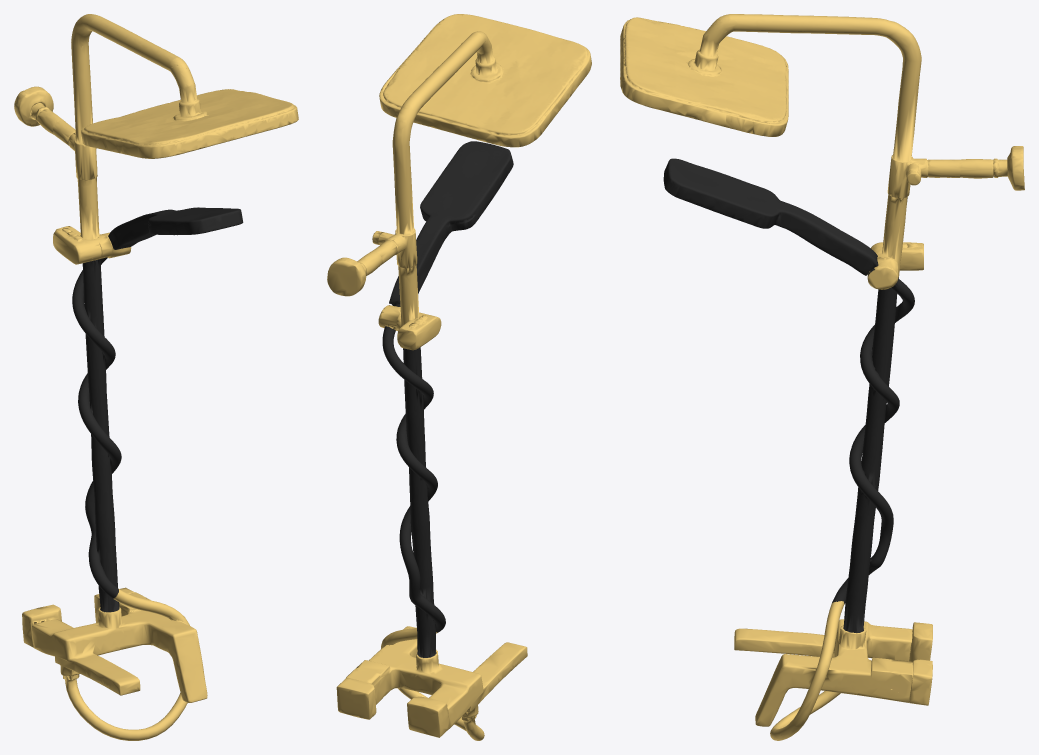
File: shower.glb
The picture shows the model from 3 angles, left to right: view 1: azimuth 30°, elevation 25°; view 2: azimuth 150°, elevation 25°; view 3: azimuth 270°, elevation 25°; orthographic projection. The views are drawn at different scales.
Visible parts, largest first — view 1: tripo_part_0, tripo_part_2; view 2: tripo_part_0, tripo_part_2; view 3: tripo_part_0, tripo_part_2.
Boxes of the visible parts, <box> form: tripo_part_0: <box>14,14,298,740</box>; tripo_part_2: <box>72,207,243,612</box>; tripo_part_0: <box>327,14,591,740</box>; tripo_part_2: <box>382,141,513,657</box>; tripo_part_0: <box>620,14,1024,740</box>; tripo_part_2: <box>663,158,914,633</box>.
Size of the model in its own units: 0.2355 by 0.9796 by 0.4948.
